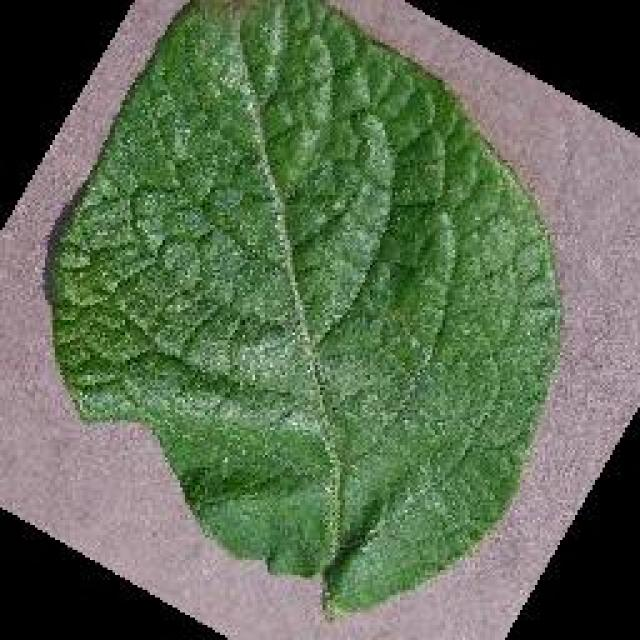Potato___healthy: (50, 0, 562, 619)
